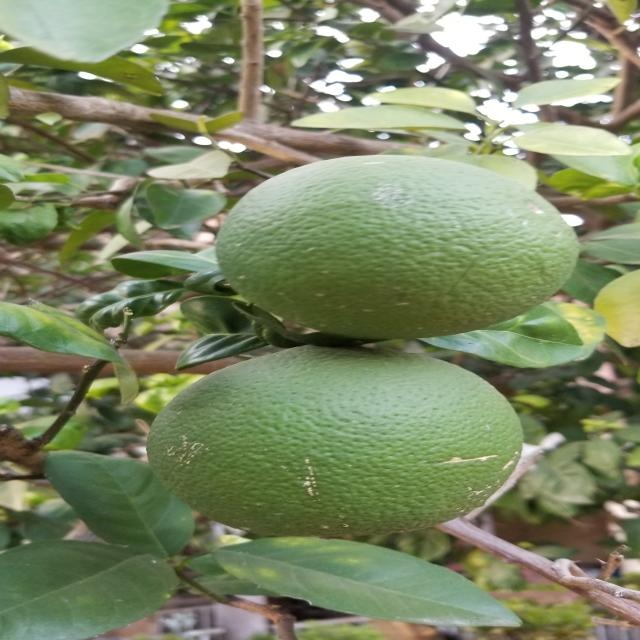agrume: (131, 342, 542, 547), (186, 152, 594, 346)
